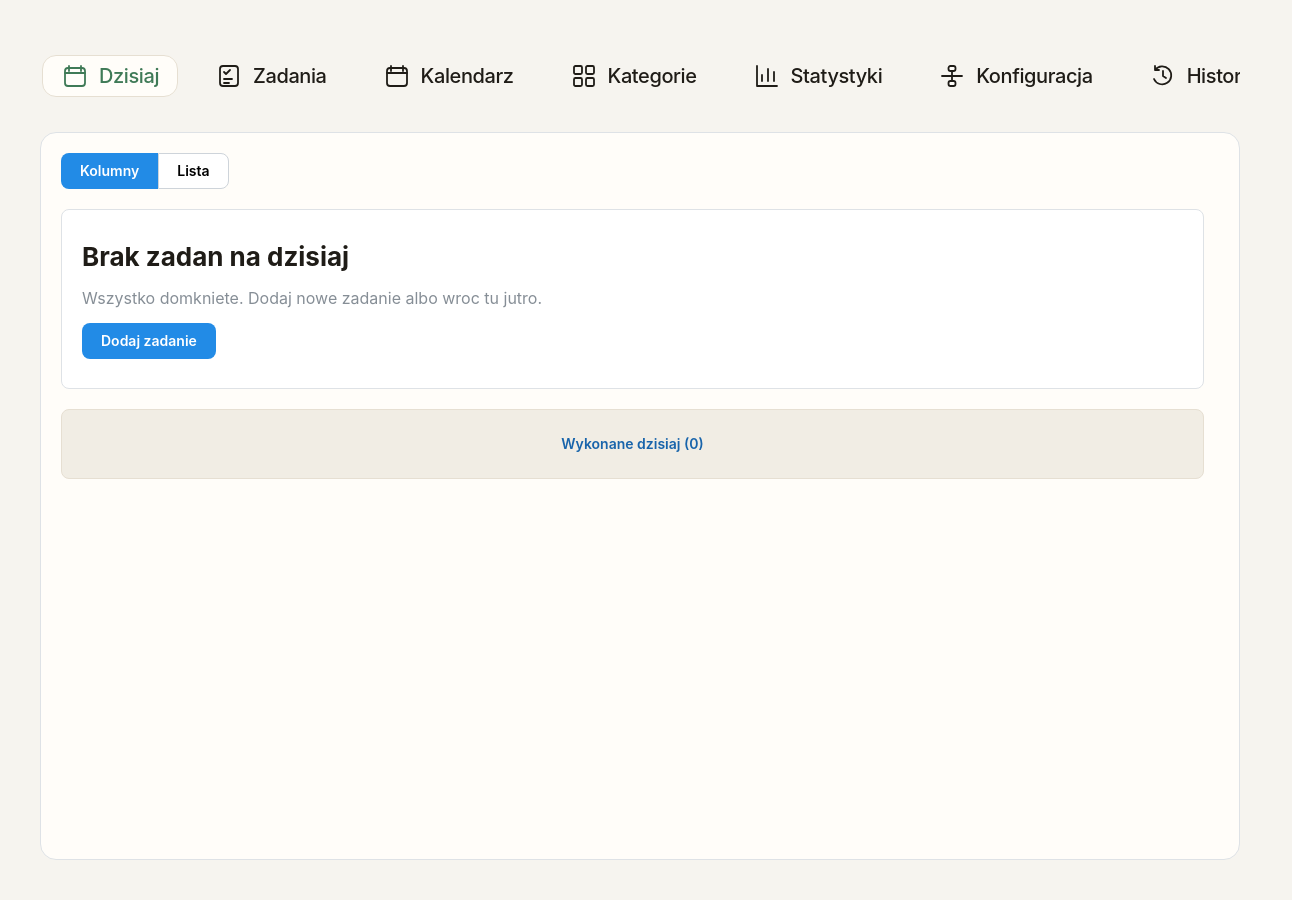
App › manages categories from the Kategorie view
The width and height of the screenshot is (1292, 900).
Click the button "Kategorie": (633, 76) [551,55,716,97]
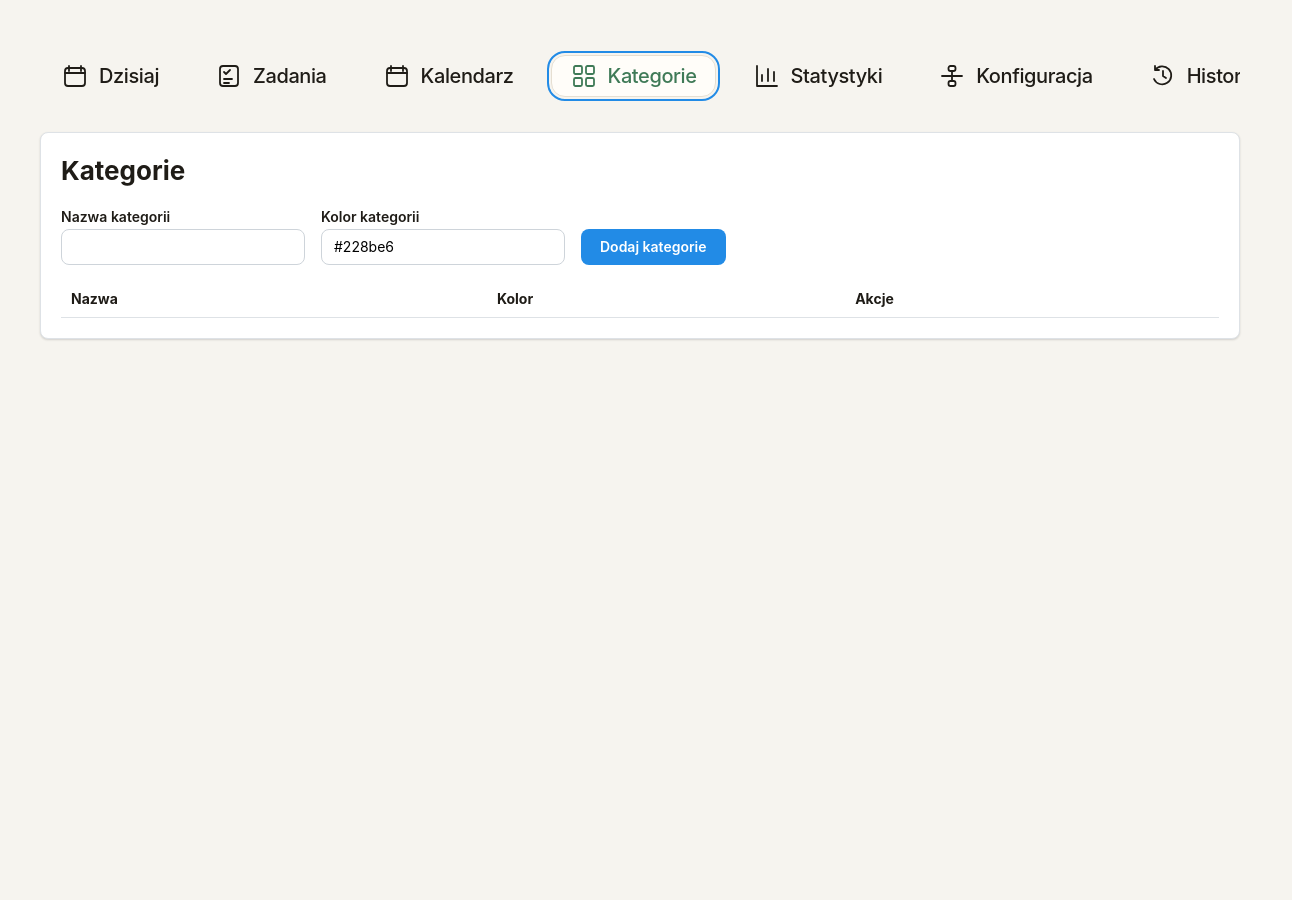
In the field labelled "Nazwa kategorii": (183, 247) [61,229,305,265], type "Dom"
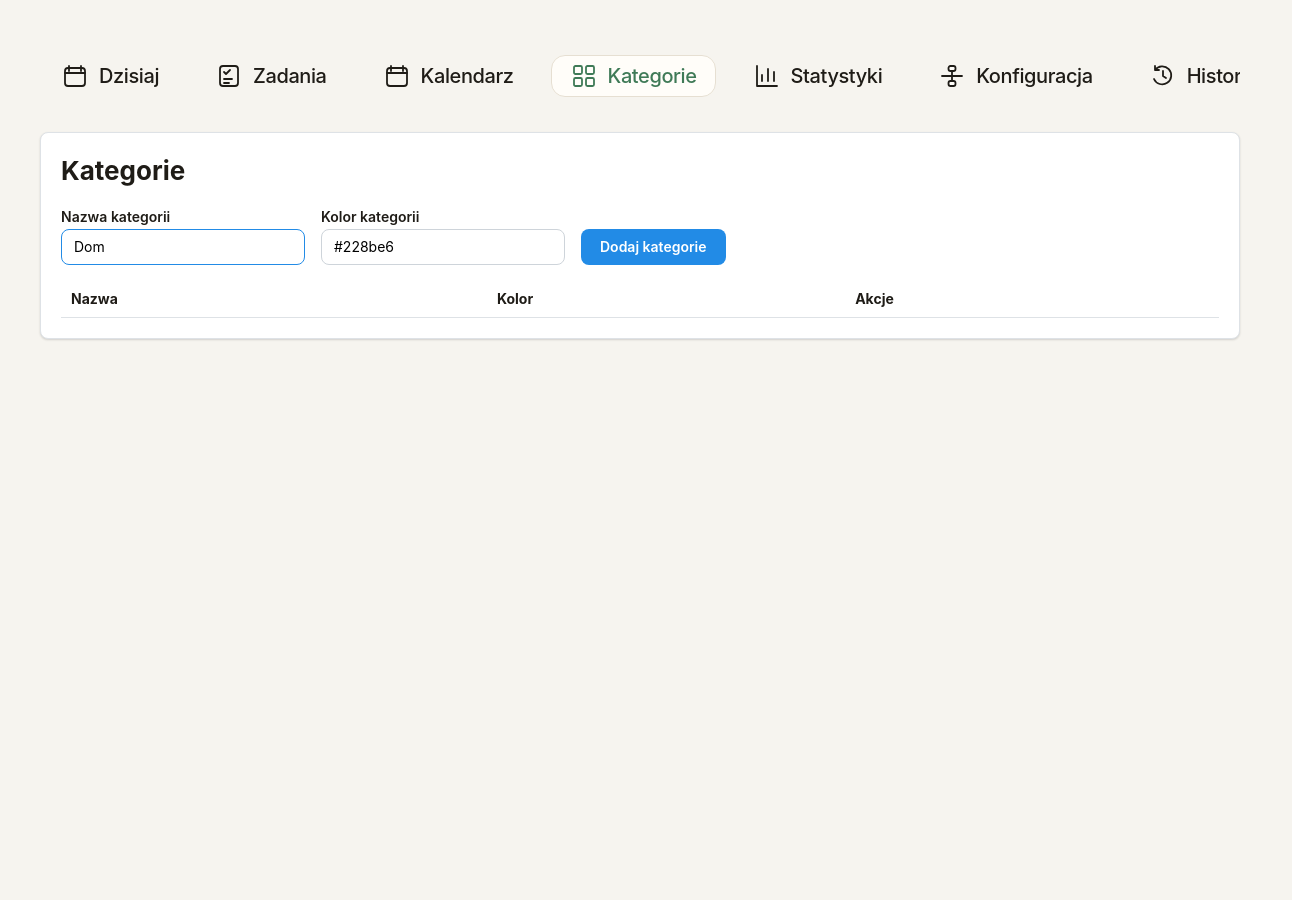
Replace the text in the field labelled "Kolor kategorii" with "#40c057": (443, 247) [321,229,565,265]
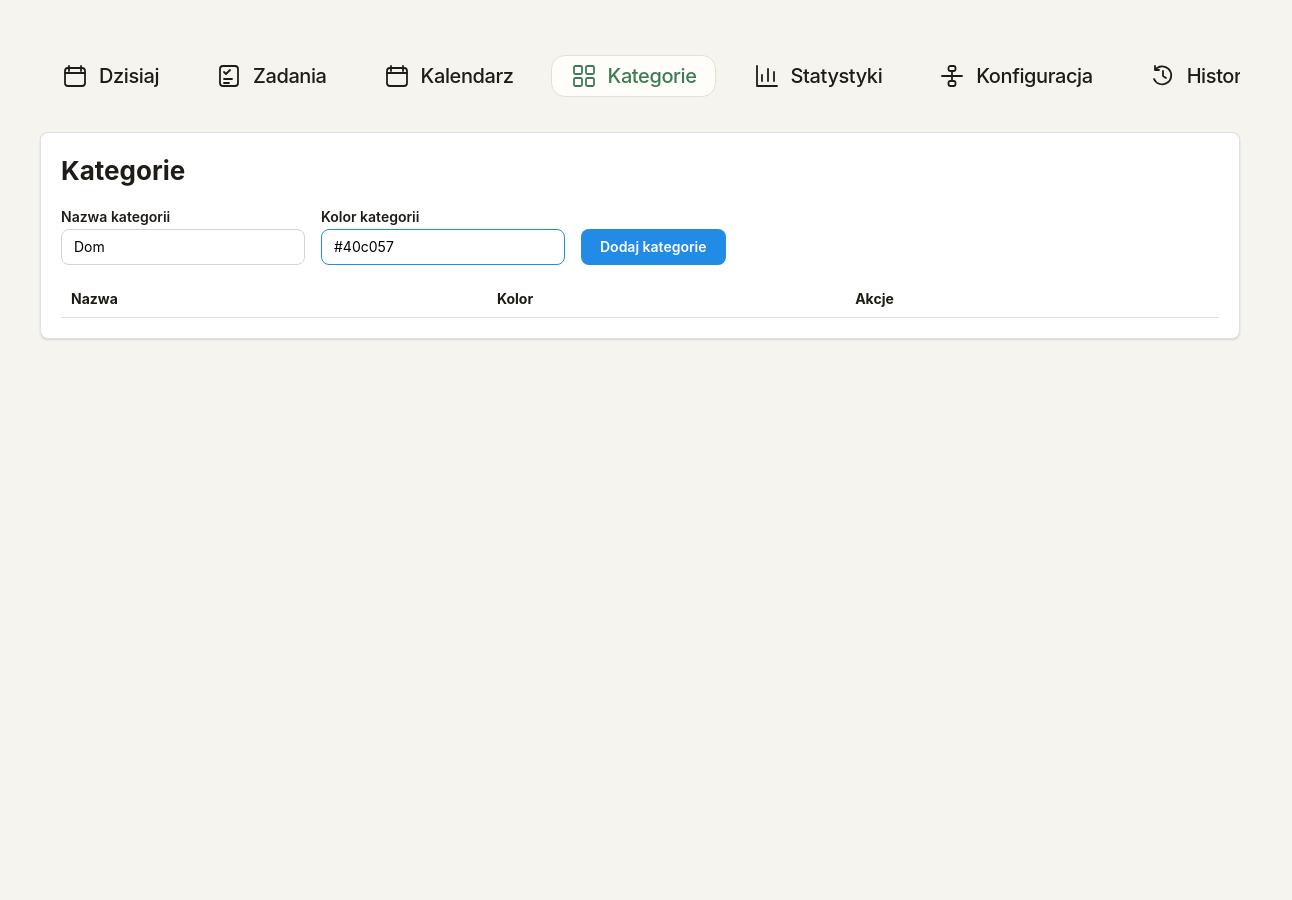
Click the button "Dodaj kategorie": (653, 247) [581,229,726,265]
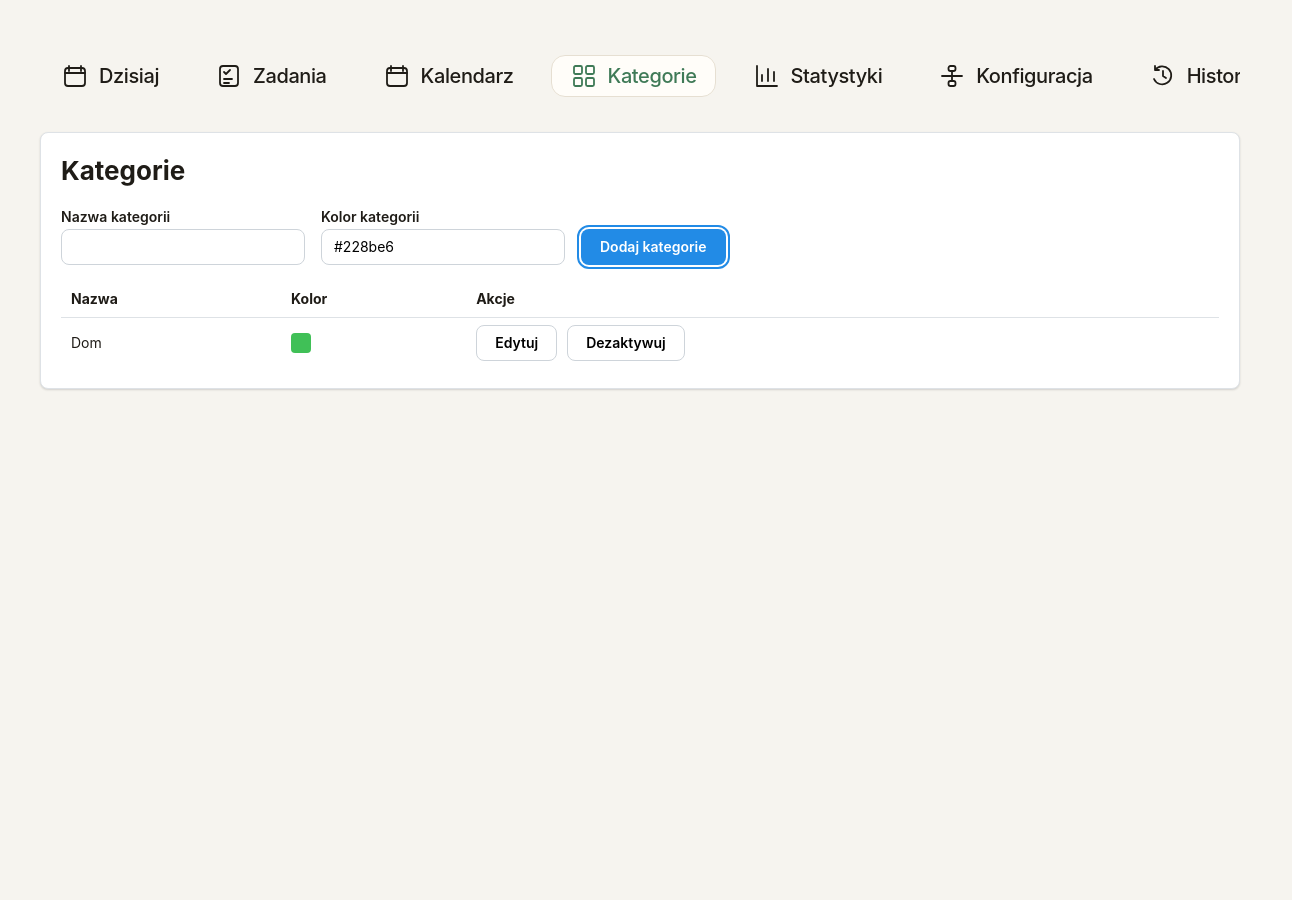
Result: the text "Dom" is shown at [61,317,281,368]
